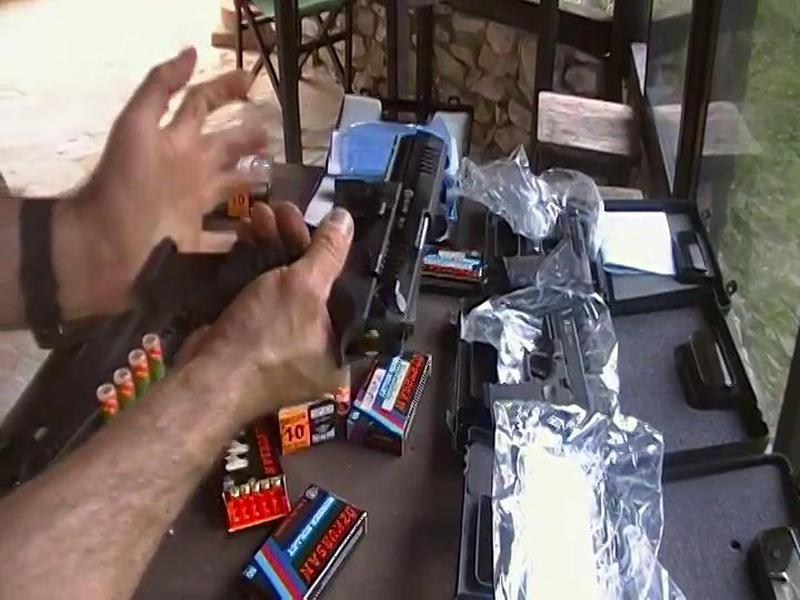Pistola: (204, 82, 489, 383)
